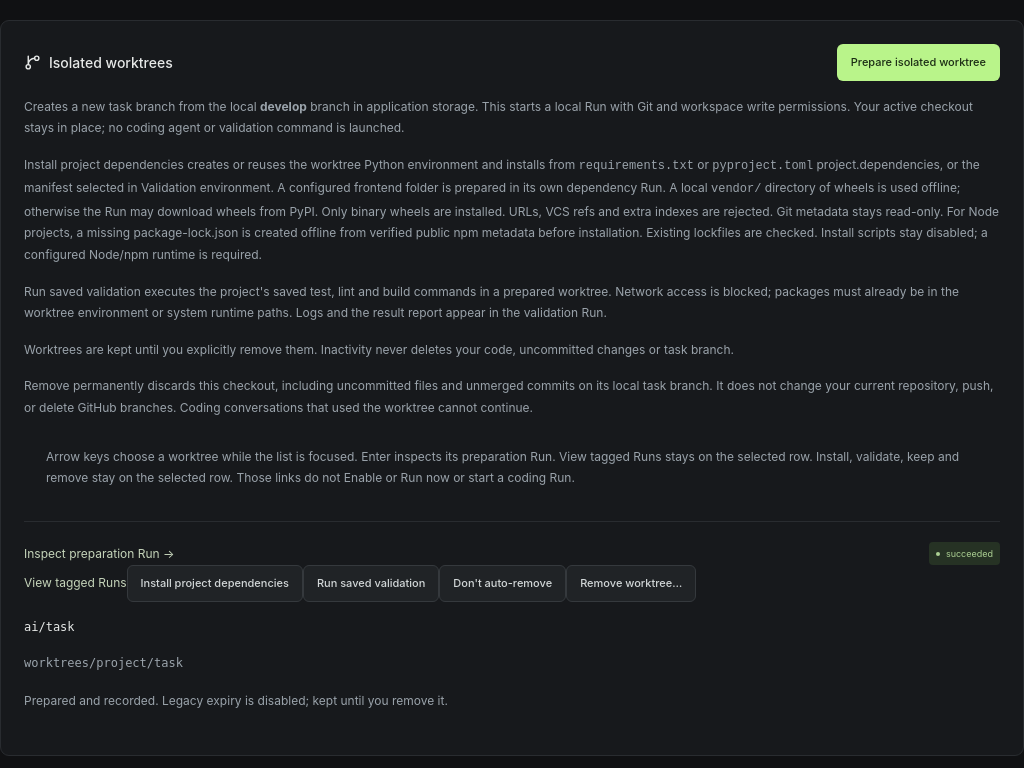
Test: clears a legacy expiry deadline
The image size is (1024, 768).
Step 1. Click the button "Don't auto-remove" → click(503, 584), box [439,565,566,602]
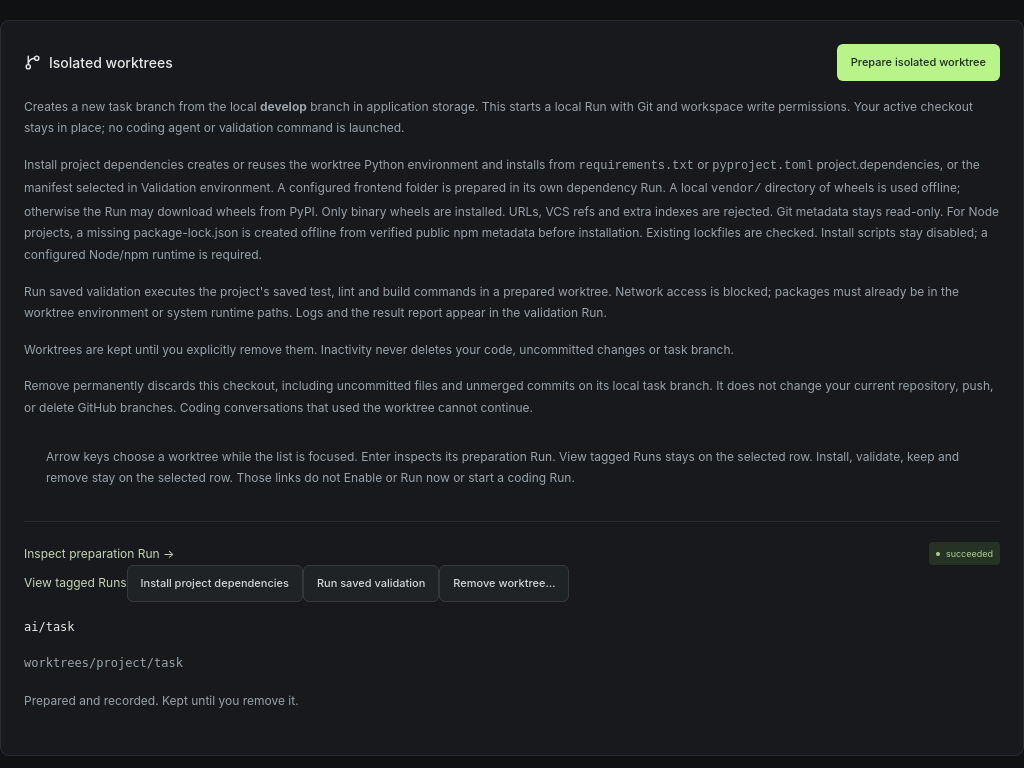
Result: the text "Prepared and recorded. Kept until you remove it." is shown at [24,693,299,708]
